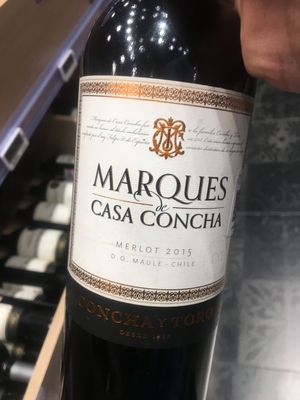marques de casa concha merlot: (56, 33, 271, 396)
